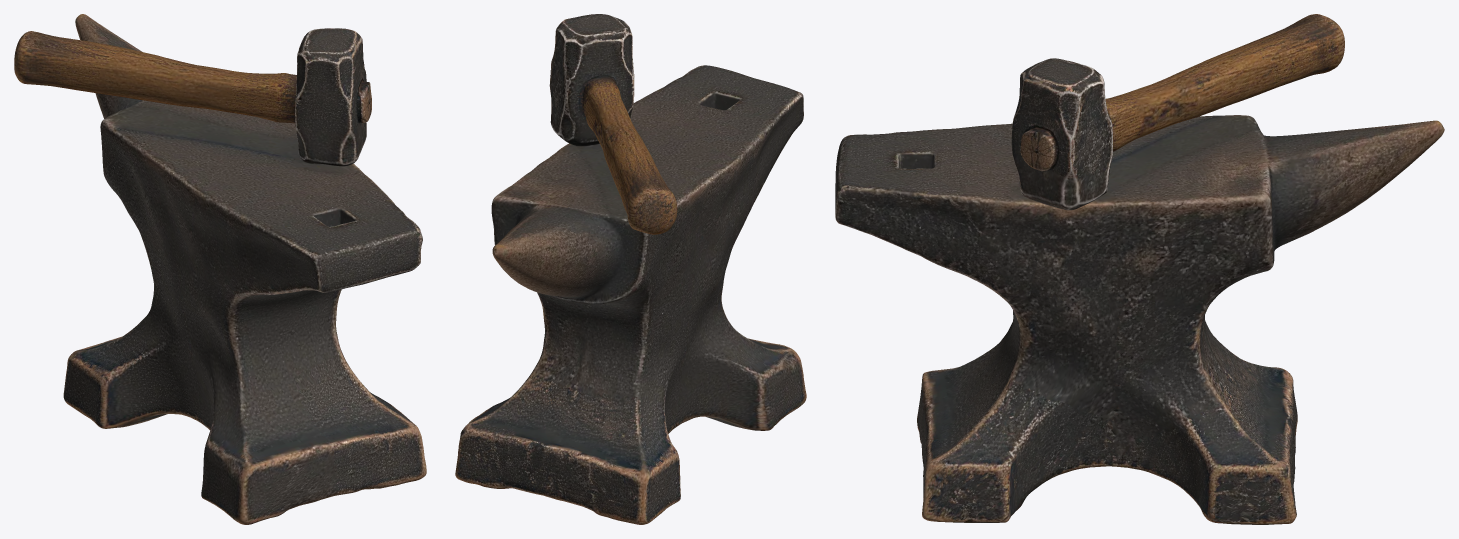
The model's file is anvil.glb.
The picture shows the model from 3 angles, left to right: view 1: azimuth 30°, elevation 25°; view 2: azimuth 150°, elevation 25°; view 3: azimuth 270°, elevation 25°; orthographic projection. The views are drawn at different scales.
Visible parts, largest first — view 1: tripo_node_a07b824a-c0dd-4415-899d-3790d94d4836; view 2: tripo_node_a07b824a-c0dd-4415-899d-3790d94d4836; view 3: tripo_node_a07b824a-c0dd-4415-899d-3790d94d4836.
Boxes of the visible parts, left/top/right/bottom form: tripo_node_a07b824a-c0dd-4415-899d-3790d94d4836: left=14, top=14, right=426, bottom=524; tripo_node_a07b824a-c0dd-4415-899d-3790d94d4836: left=455, top=14, right=806, bottom=524; tripo_node_a07b824a-c0dd-4415-899d-3790d94d4836: left=835, top=14, right=1444, bottom=524.
Bounding box in the file's own units: 0.4939 × 0.791 × 0.9998.
Materials: 1 (1 with a texture image).
